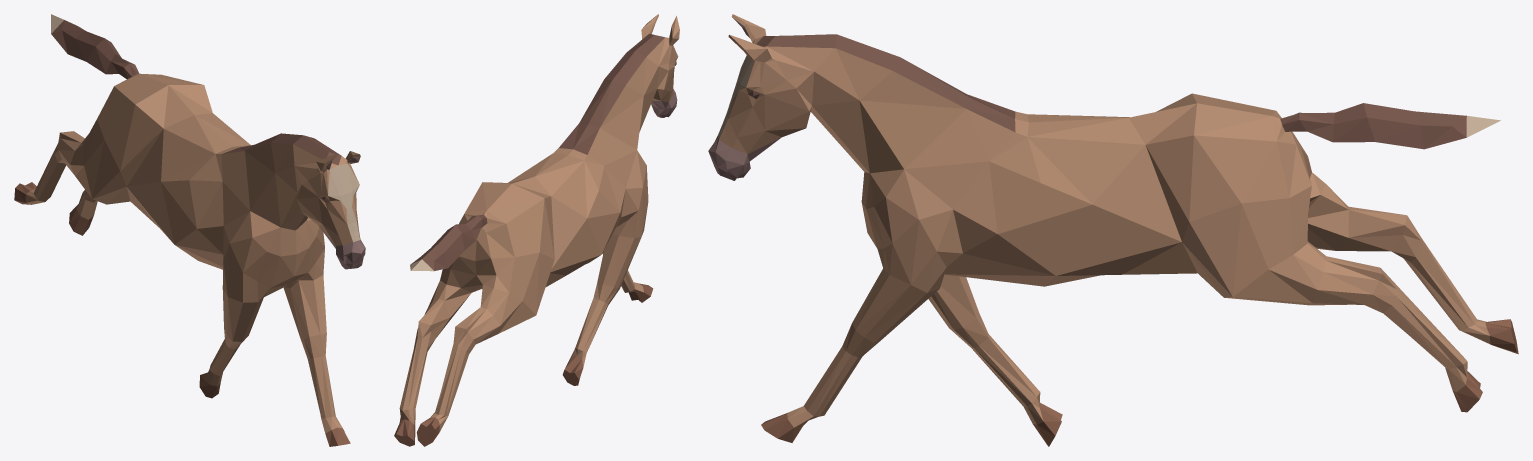
Rendered from Horse.glb.
The picture shows the model from 3 angles, left to right: view 1: azimuth 30°, elevation 25°; view 2: azimuth 150°, elevation 25°; view 3: azimuth 270°, elevation 25°; orthographic projection. The views are drawn at different scales.
Visible parts, largest first — view 1: mesh_0; view 2: mesh_0; view 3: mesh_0.
Boxes of the visible parts, x1,y1,x2,y2 form: mesh_0: [14, 14, 365, 446]; mesh_0: [394, 14, 679, 446]; mesh_0: [708, 14, 1518, 446].
Bounding box in the file's own units: 63.39 × 182 × 308.
